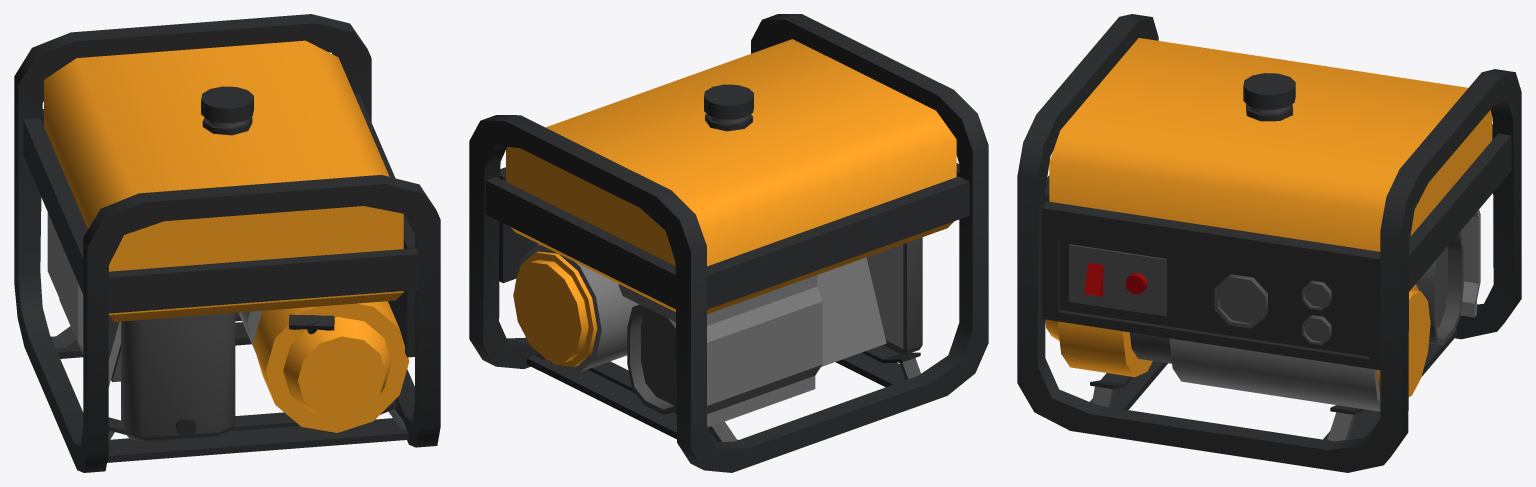
Rendered from generator.fbx.
3 renders of one model, left to right at view 1: azimuth 30°, elevation 25°; view 2: azimuth 150°, elevation 25°; view 3: azimuth 270°, elevation 25°, orthographic. The views are drawn at different scales.
Visible parts, largest first — view 1: generator; view 2: generator; view 3: generator.
Boxes of the visible parts, x1,y1,x2,y2 form: generator: [14, 14, 440, 472]; generator: [469, 14, 988, 472]; generator: [1017, 14, 1521, 472].
Bounding box in the file's own units: 1.3 × 0.8964 × 1.38.
